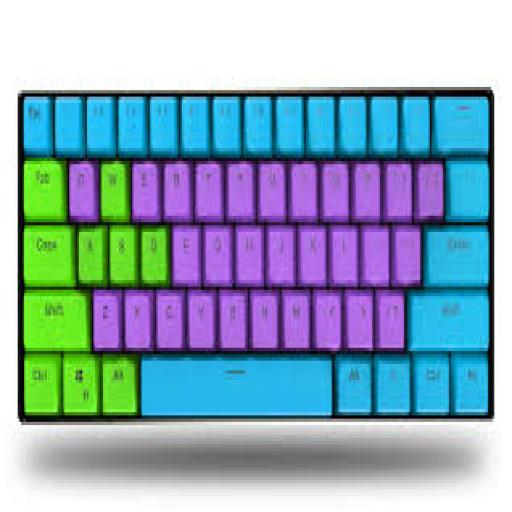KEYBOARD-2: (16, 90, 493, 419)
